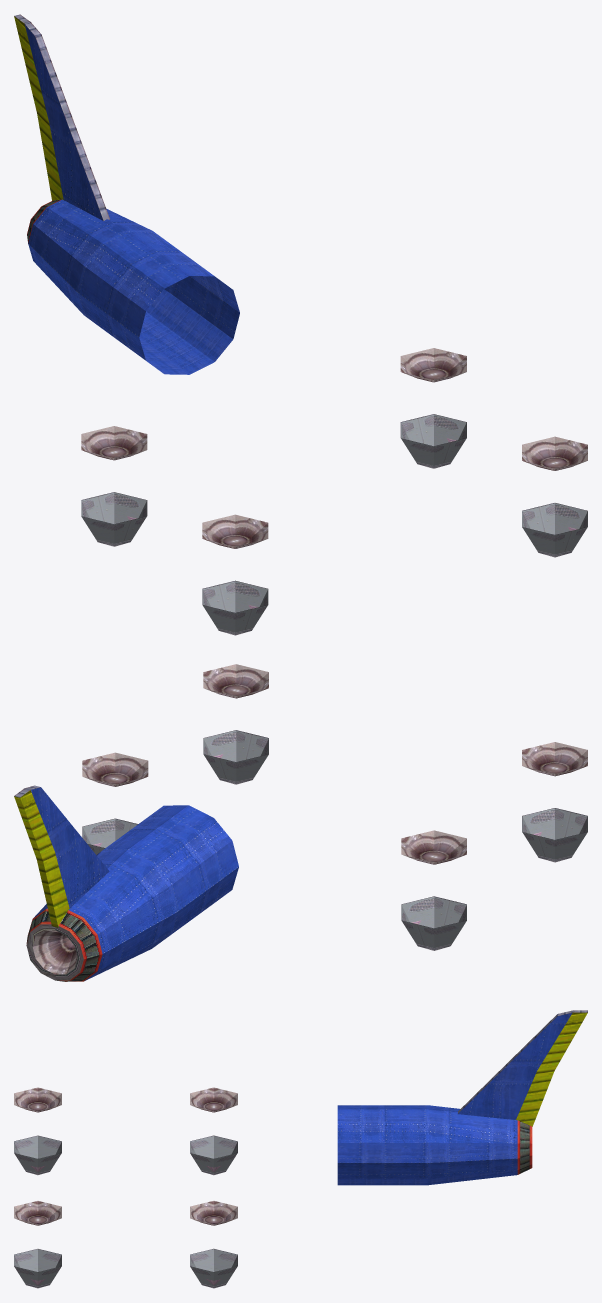
The picture shows the model from 3 angles, top to bottom: view 1: azimuth 30°, elevation 25°; view 2: azimuth 150°, elevation 25°; view 3: azimuth 270°, elevation 25°; orthographic projection. The views are drawn at different scales.
Parts seen in each view (by area): view 1: s13_on_28_3, s13_on_28_6, s13_on_28_2, s13_on_28_5, s13_on_28_4; view 2: s13_on_28_3, s13_on_28_6, s13_on_28_2, s13_on_28_5, s13_on_28_0, s13_on_28_1; view 3: s13_on_28_3, s13_on_28_6, s13_on_28_2, s13_on_28_5, s13_on_28_0, s13_on_28_4.
Part boxes in pixels (bbox=[...]): s13_on_28_3: bbox=[24, 24, 239, 374]; s13_on_28_6: bbox=[81, 414, 587, 635]; s13_on_28_2: bbox=[81, 348, 587, 548]; s13_on_28_5: bbox=[14, 16, 63, 200]; s13_on_28_4: bbox=[14, 14, 110, 220]; s13_on_28_3: bbox=[30, 787, 238, 980]; s13_on_28_6: bbox=[82, 730, 587, 950]; s13_on_28_2: bbox=[32, 664, 587, 974]; s13_on_28_5: bbox=[14, 790, 69, 927]; s13_on_28_0: bbox=[26, 908, 102, 981]; s13_on_28_1: bbox=[26, 924, 83, 980]; s13_on_28_3: bbox=[337, 1013, 572, 1185]; s13_on_28_6: bbox=[14, 1135, 237, 1288]; s13_on_28_2: bbox=[14, 1087, 237, 1225]; s13_on_28_5: bbox=[516, 1012, 587, 1126]; s13_on_28_0: bbox=[517, 1120, 532, 1174]; s13_on_28_4: bbox=[458, 1010, 587, 1113].
Bounding box in the file's own units: 2330 × 1755 × 4137.
7 materials, 7 textured.
